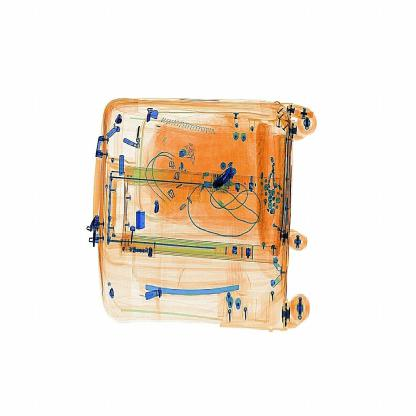knife: (208, 163, 246, 195)
